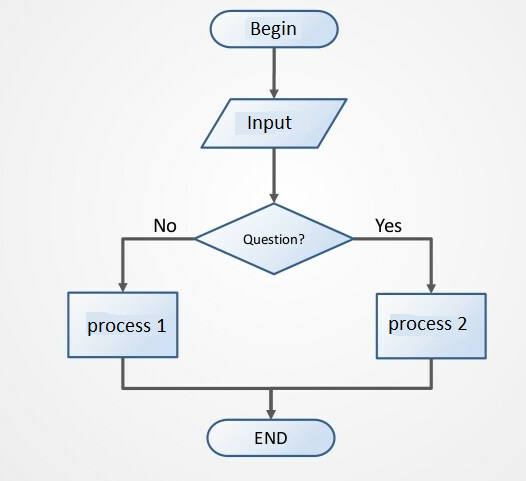arrow: (266, 359, 435, 418), (118, 359, 277, 418), (355, 236, 435, 295), (118, 235, 194, 294), (269, 149, 279, 204), (269, 46, 278, 98)
data: (200, 96, 348, 151)
decision: (192, 203, 355, 276)
process: (67, 290, 180, 361), (375, 291, 488, 361)
terminator: (210, 8, 340, 50), (203, 416, 337, 456)
text: (388, 313, 467, 336), (86, 316, 167, 337), (248, 20, 300, 41), (240, 232, 308, 248), (246, 116, 296, 133), (251, 429, 289, 446), (372, 216, 402, 237), (152, 213, 178, 236)
